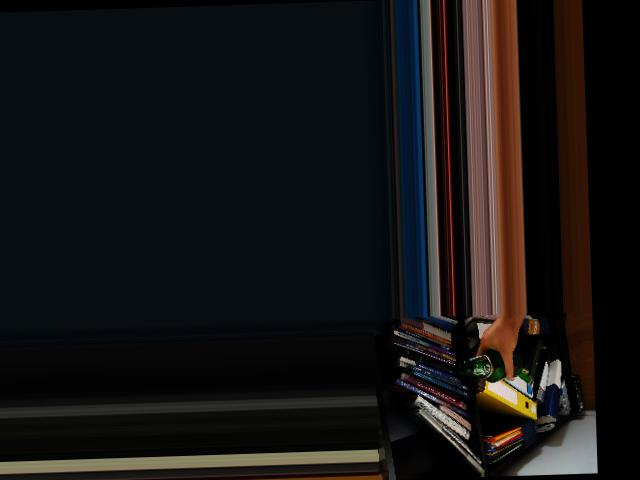beer: (458, 348, 524, 382)
